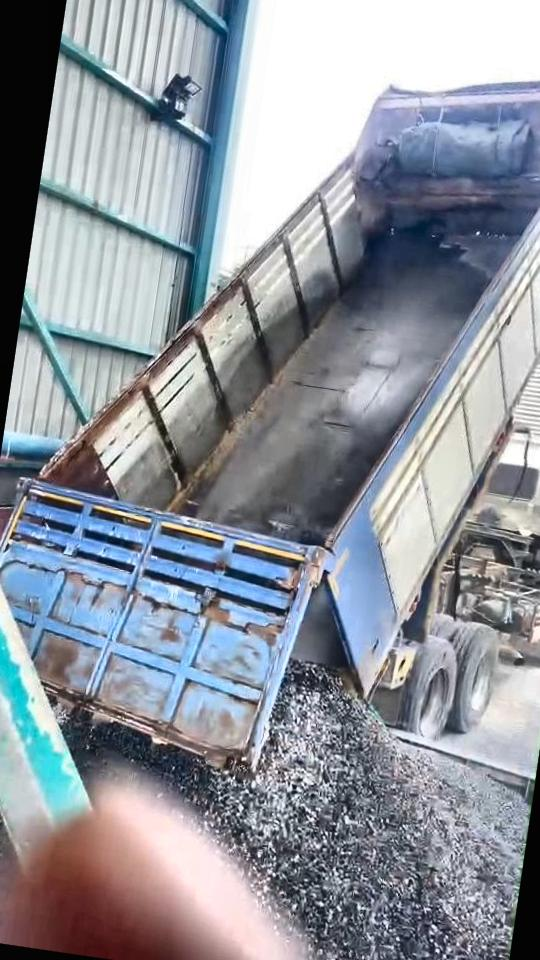gravel: (65, 663, 527, 960), (0, 712, 8, 932)
